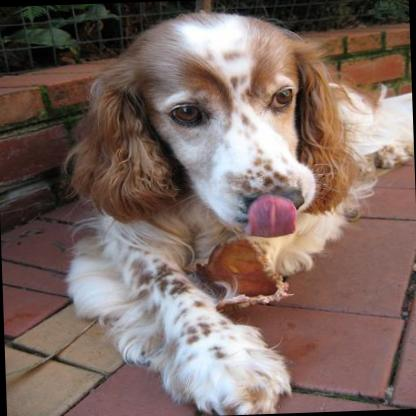Welsh_springer_spaniel: (56, 5, 416, 416)
